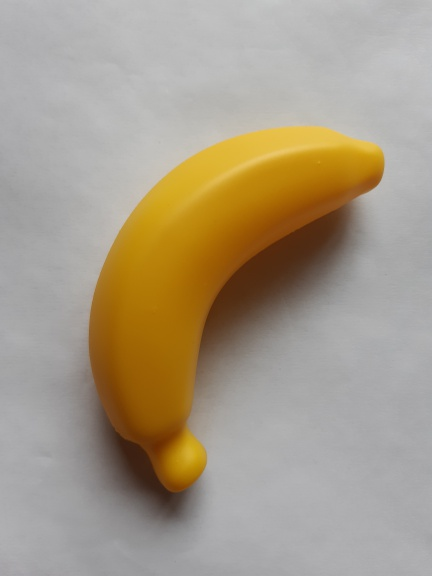banana: (74, 109, 395, 503)
